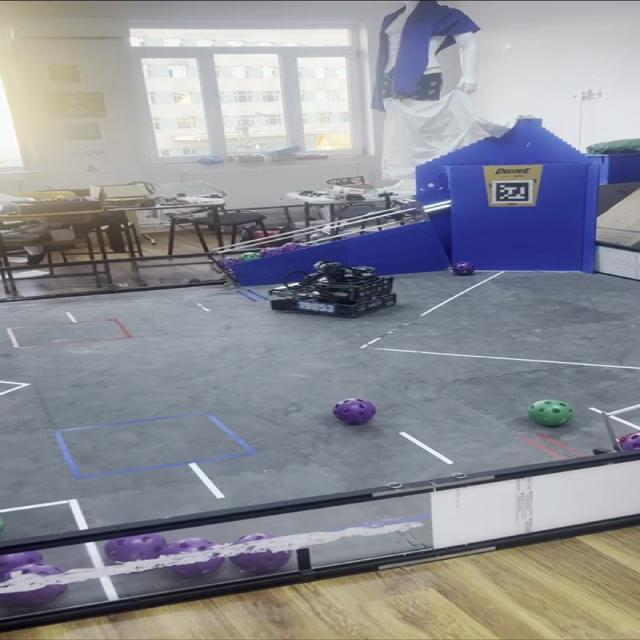artifact_green: (528, 400, 574, 427), (619, 432, 639, 451), (617, 432, 639, 446), (240, 252, 261, 261), (0, 519, 5, 533)
artifact_purple: (104, 534, 166, 562), (230, 550, 291, 574), (2, 584, 66, 606), (171, 554, 223, 577), (334, 399, 375, 424), (0, 551, 42, 573), (619, 432, 639, 451), (452, 262, 475, 275), (618, 432, 638, 446), (260, 247, 282, 257), (223, 257, 241, 269), (280, 243, 303, 252)
